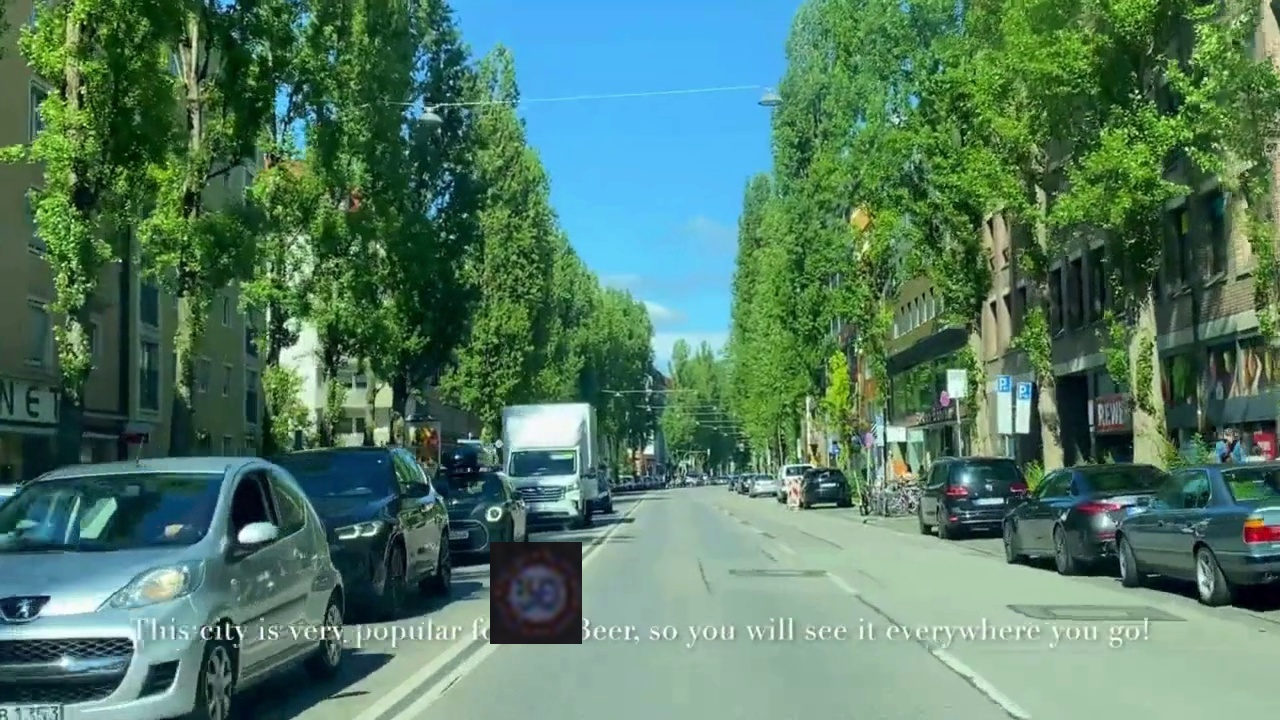Speed 50: (490, 542, 582, 644)
